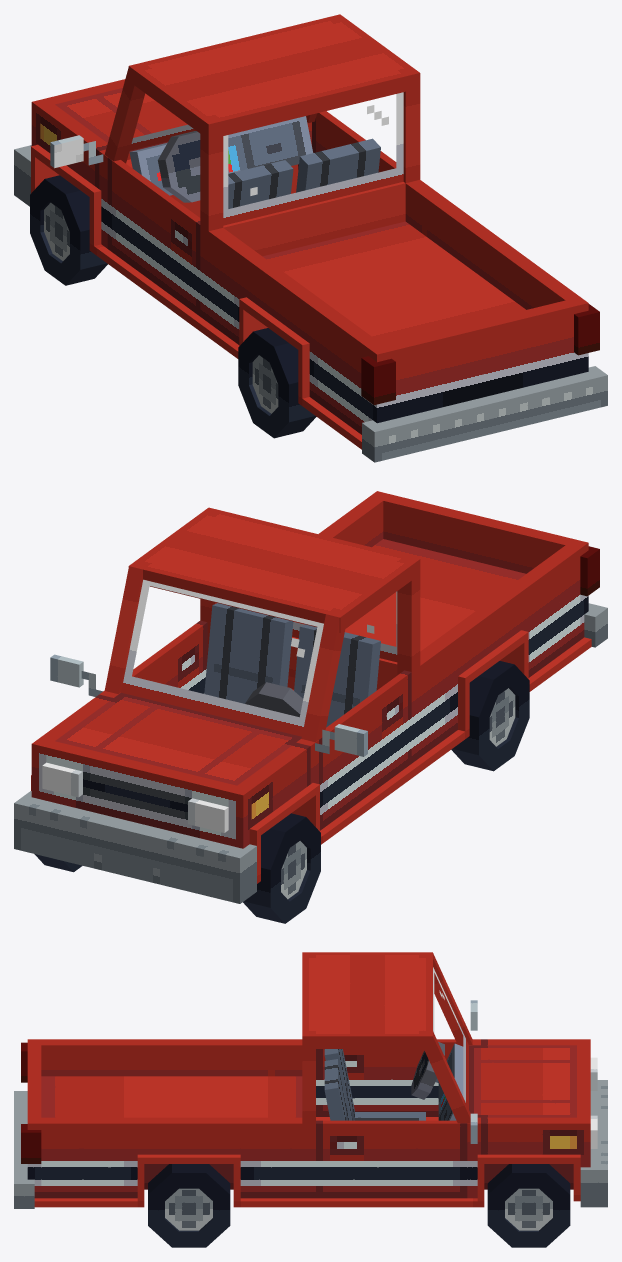
File: pickup-red.gltf
3 views of the same model, one above another, from view 1: azimuth 30°, elevation 25°; view 2: azimuth 150°, elevation 25°; view 3: azimuth 270°, elevation 25° (orthographic). The views are drawn at different scales.
Parts seen in each view (by area): view 1: cube (×37), tube (×2), cylinder (×3); view 2: cube (×37), tube (×2), cylinder (×3); view 3: cube (×37), tube (×2), cylinder (×3).
Part boxes in pixels (x1,y1,x2,y2): cube (×37): (14,14,607,462); tube (×2): (30,175,316,438); cylinder (×3): (44,131,278,413); cube (×37): (14,491,607,903); tube (×2): (243,661,529,923); cylinder (×3): (245,682,515,899); cube (×37): (14,952,607,1208); tube (×2): (148,1164,570,1247); cylinder (×3): (165,1042,552,1230).
Size of the model in its own units: 2.15 by 1.65 by 4.32.
Materials: 2 (2 with a texture image).
